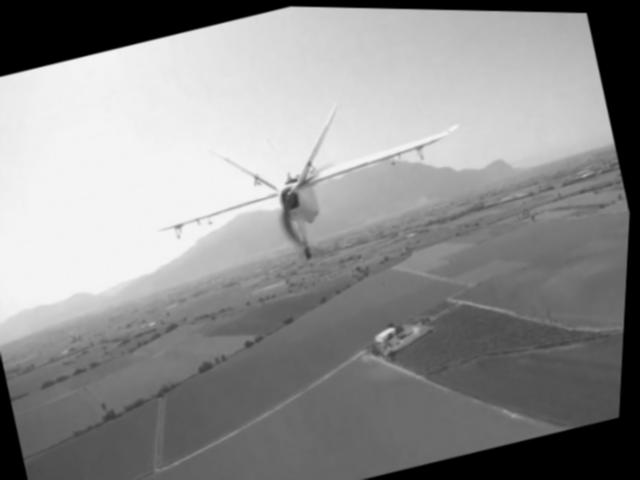hedef: (117, 71, 479, 297)
